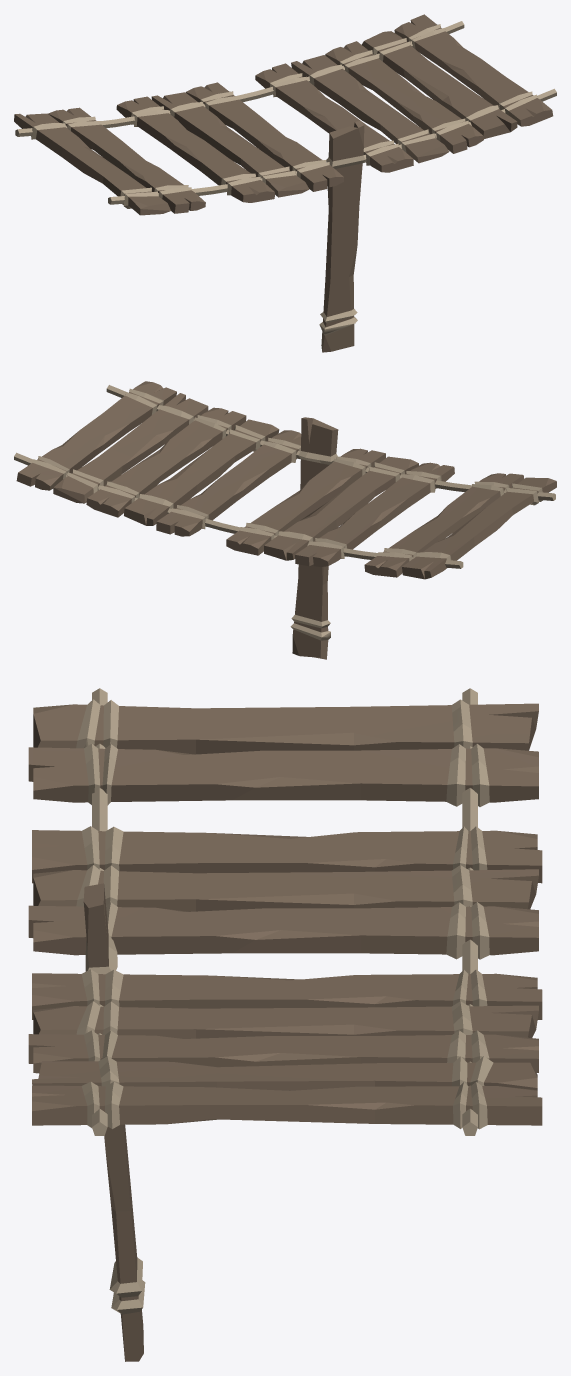
File: SM_Env_Wood_Bridge_01.glb
3 renders of one model, top to bottom at view 1: azimuth 30°, elevation 25°; view 2: azimuth 150°, elevation 25°; view 3: azimuth 270°, elevation 25°, orthographic. The views are drawn at different scales.
Parts seen in each view (by area): view 1: SM_Env_Wood_Bridge_01; view 2: SM_Env_Wood_Bridge_01; view 3: SM_Env_Wood_Bridge_01.
Part boxes in pixels (x1,y1,x2,y2): SM_Env_Wood_Bridge_01: (14,14,556,352); SM_Env_Wood_Bridge_01: (14,381,556,659); SM_Env_Wood_Bridge_01: (28,688,542,1361).
Bounding box in the file's own units: 0.072 × 0.0353 × 0.0358.
Materials: 1 (1 with a texture image).
